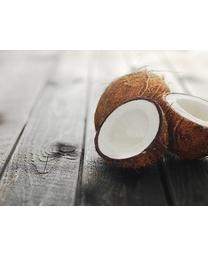coconut: (94, 96, 169, 172), (93, 70, 173, 141), (162, 89, 206, 157)
